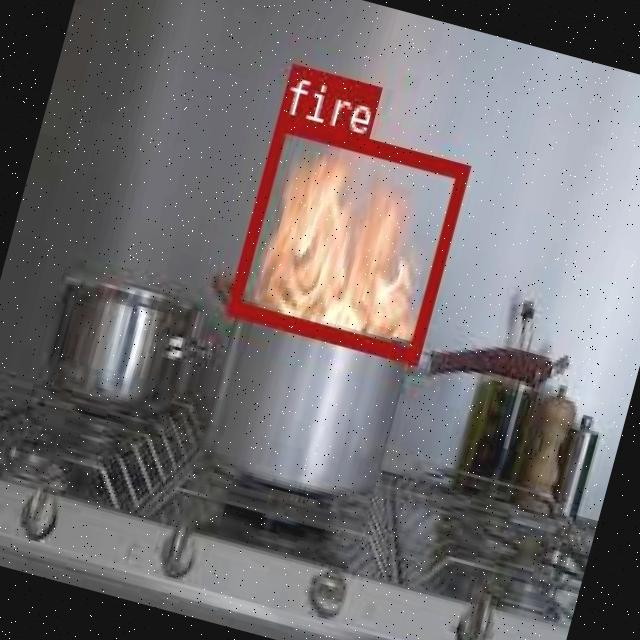fire: (226, 111, 468, 360)
